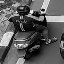motor: (9, 4, 50, 59)
